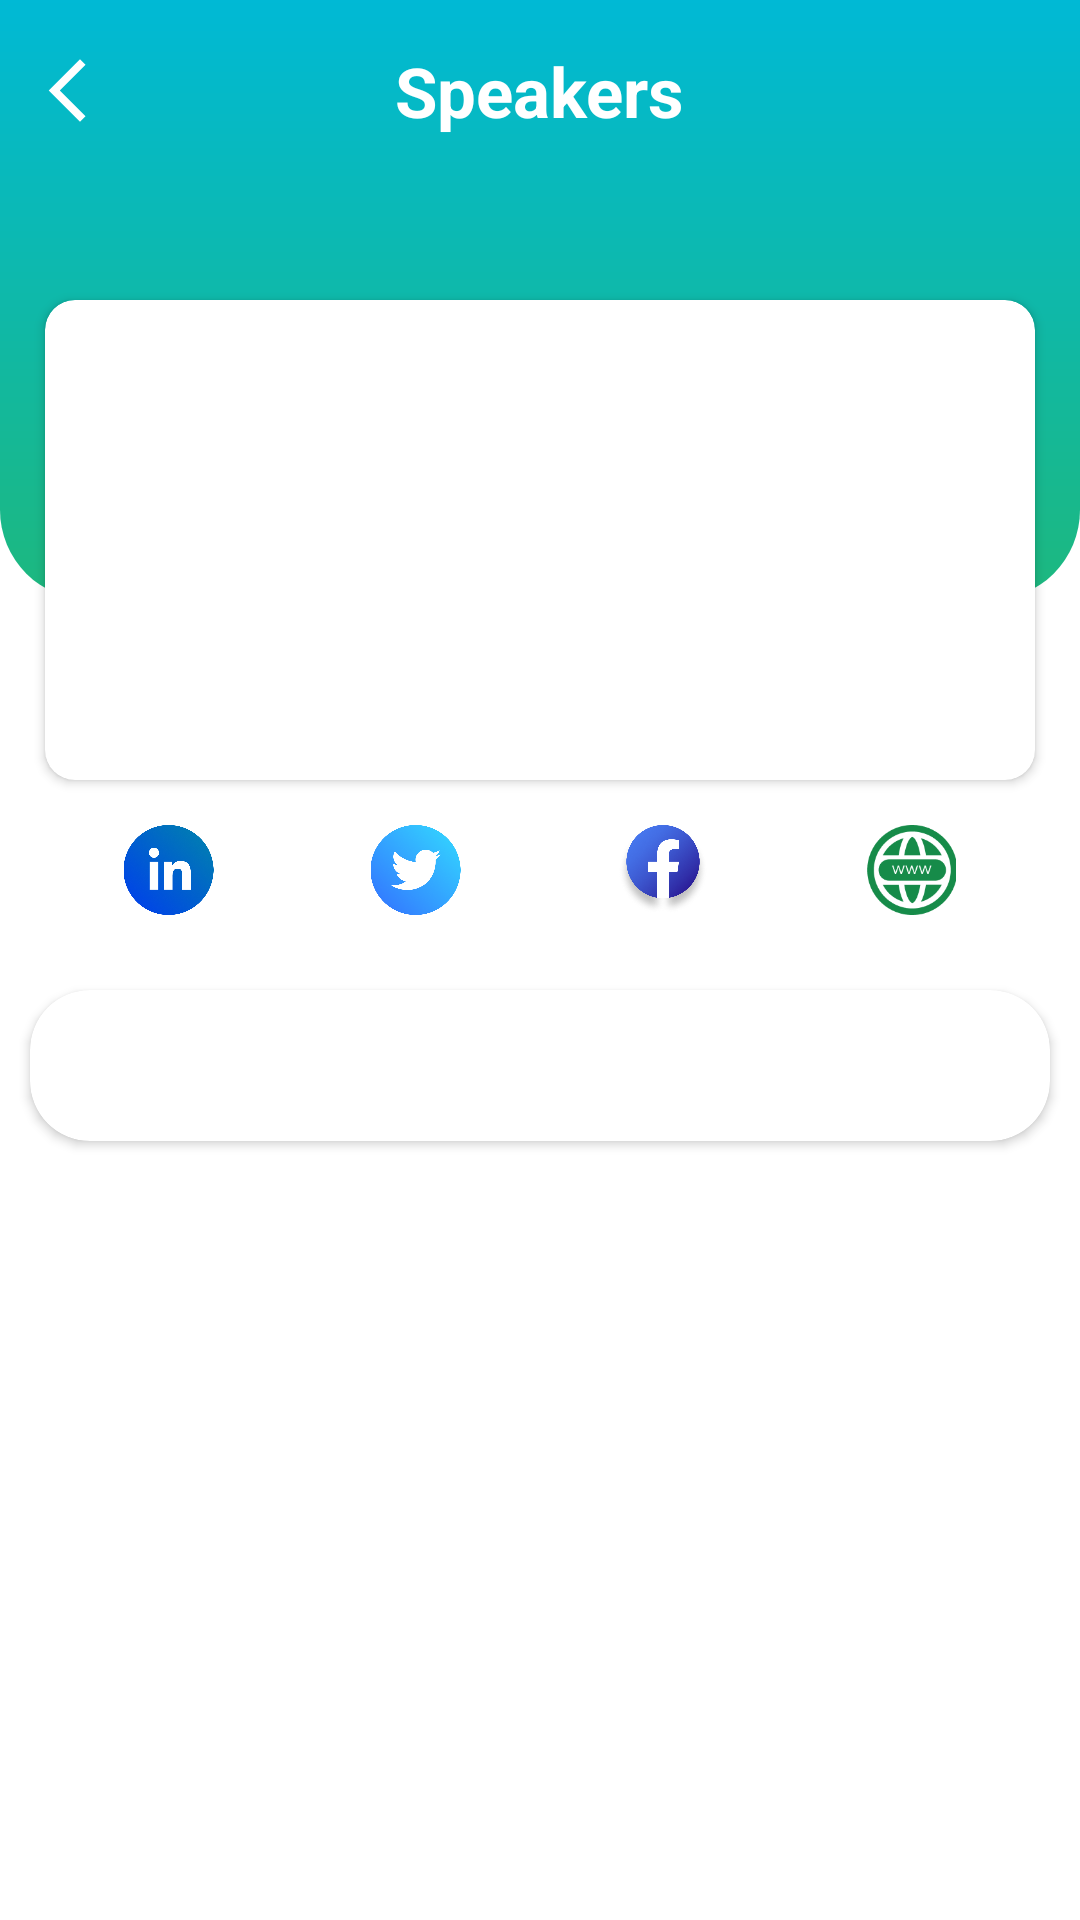

Screen size 1080px×1920px. Icon name, then its box in pixels as {"x1": x1, "y1": y1, "x2": x2, "y2": y2}:
back: {"x1": 49, "y1": 59, "x2": 86, "y2": 122}
web: {"x1": 867, "y1": 825, "x2": 956, "y2": 915}
